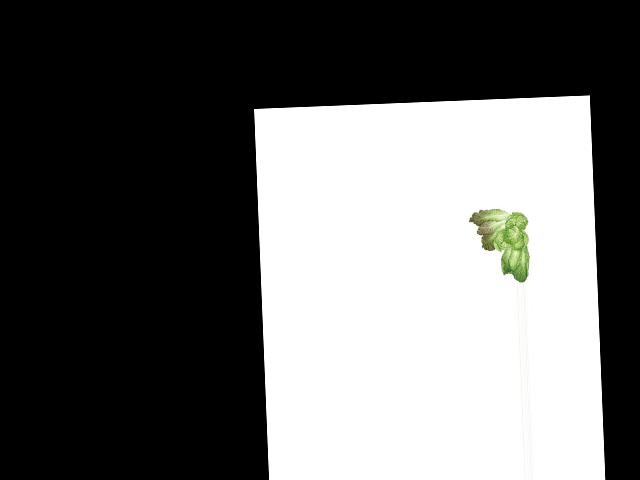lettuce: (464, 206, 534, 285)
